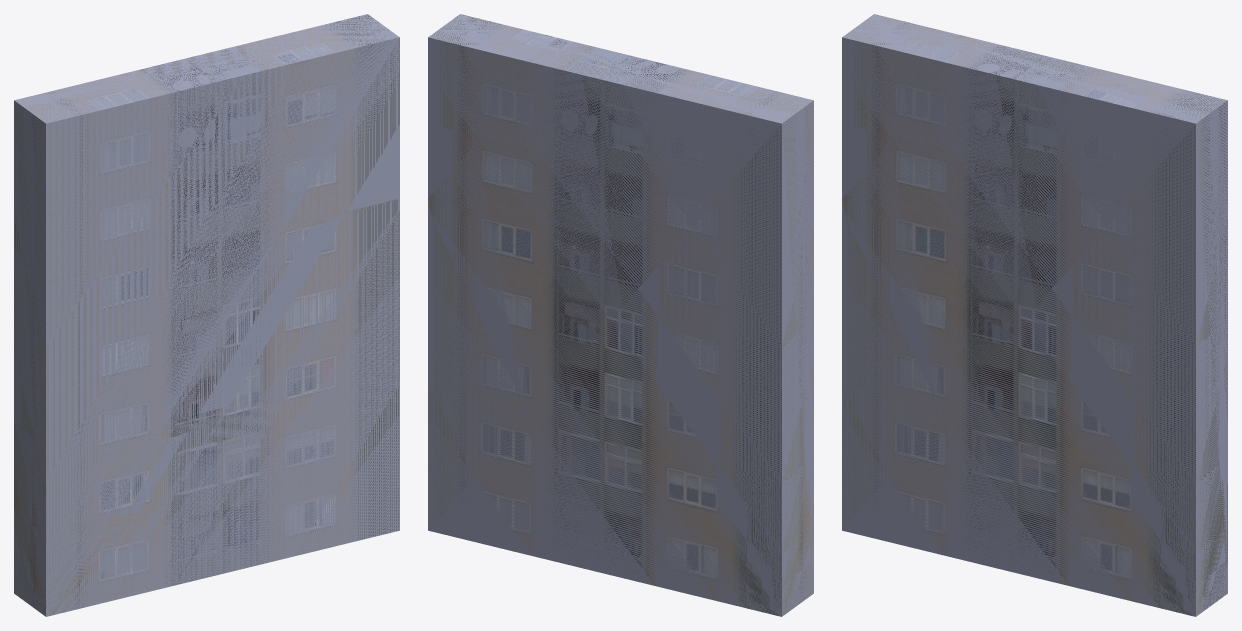
Rendered from borderBuilding8.fbx.
3 renders of one model, left to right at view 1: azimuth 30°, elevation 25°; view 2: azimuth 150°, elevation 25°; view 3: azimuth 330°, elevation 25°, orthographic.
Visible parts, largest first — view 1: Model; view 2: Model; view 3: Model.
Boxes of the visible parts, x1,y1,x2,y2 form: Model: (14, 14, 399, 616); Model: (428, 14, 813, 616); Model: (842, 14, 1227, 616).
Bounding box in the file's own units: 8 × 10.66 × 1.25.
3 materials, 1 textured.
